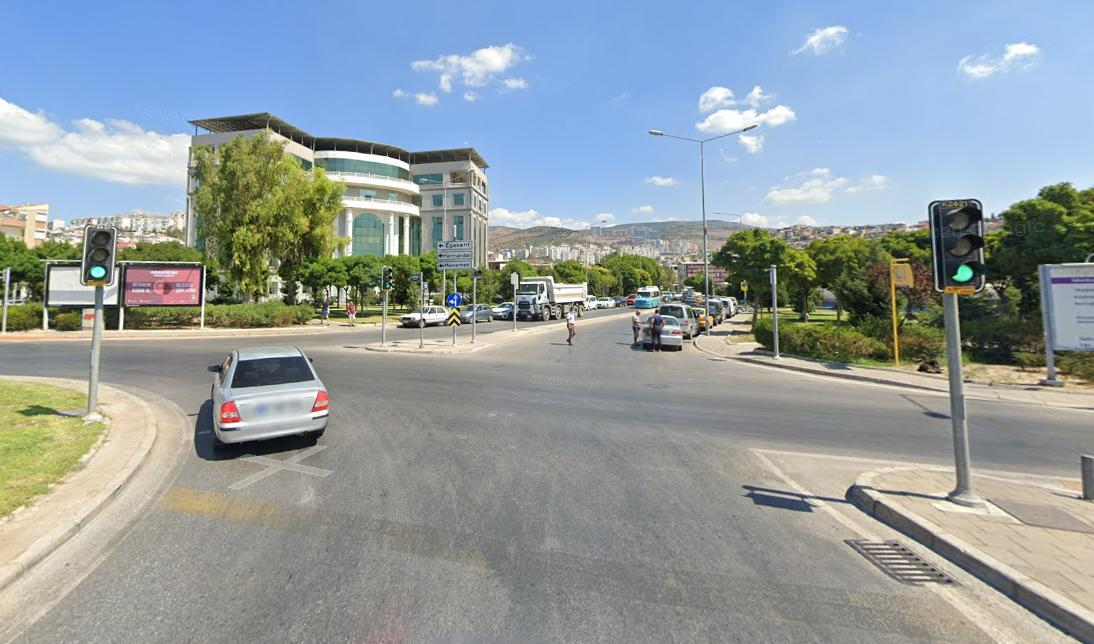greenlight: (932, 197, 980, 297), (85, 225, 115, 288), (382, 265, 392, 293)
